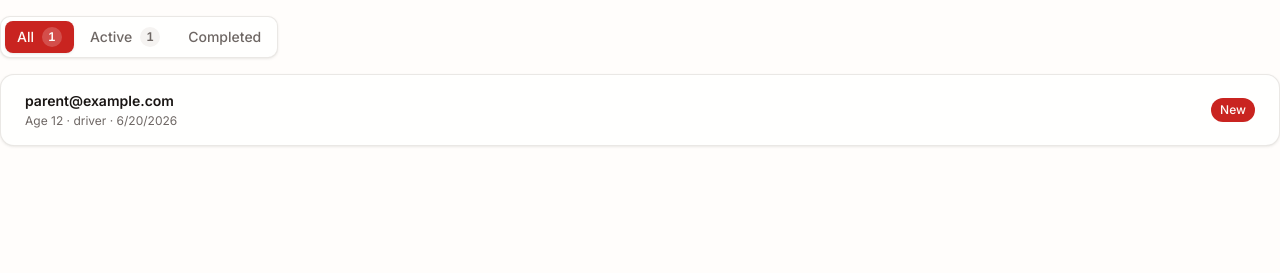
Test: CoachInbox component › renders EmptyState when filter has no matches
This screenshot has width=1280, height=273.
// Click "Completed" tab — no completed submissions
Click the tab "Completed" at (225, 37), box [176,21,273,53]
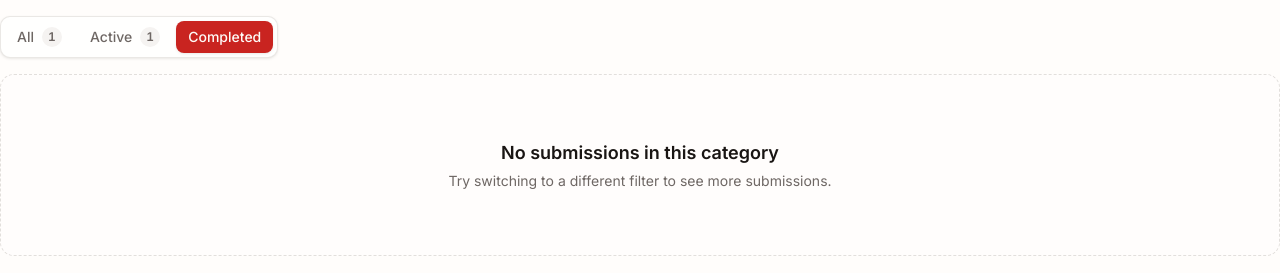
Now the text "No submissions in this category" is shown, box [501,142,779,163]
